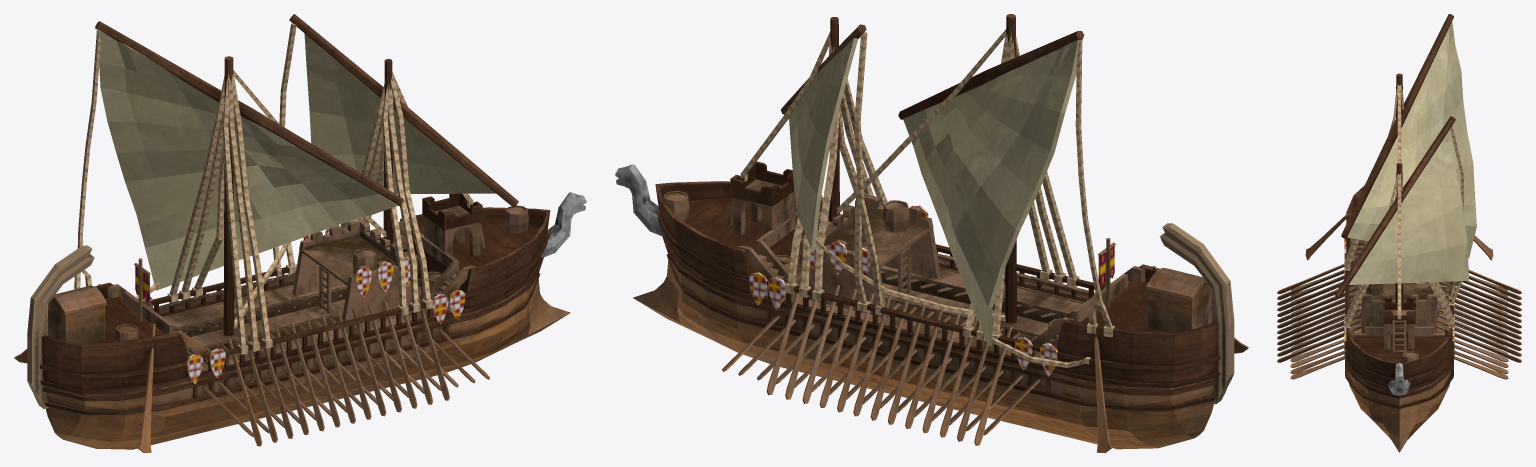
The model's file is tasarim4.glb.
3 renders of one model, left to right at view 1: azimuth 30°, elevation 25°; view 2: azimuth 150°, elevation 25°; view 3: azimuth 270°, elevation 25°, orthographic. The views are drawn at different scales.
Parts seen in each view (by area): view 1: Cube.007, Cube.026, Cube.008, Cube.057, Cube.002, Cube.010, Cube.001, Cube.058, Cube.003, Cube.004, Cube.027, Cylinder.003 (+27 smaller); view 2: Cube.026, Cube.007, Cube.002, Cube.001, Cube.003, Cube.008, Cube.010, Cube.004, Cube.058, Cube.027, Cube.055, Cube.006 (+32 smaller); view 3: Cube.008, Cube.007, Cube.001, Cube.026, Cube.010, Cylinder.003, Cylinder.001, Cube.003, Cube.058, Cube.004, Cube.009, Cube.048 (+26 smaller).
Part boxes in pixels (box(x1,y1,x2,y2)): Cube.007: box(97, 29, 398, 290); Cube.026: box(45, 275, 570, 449); Cube.008: box(304, 33, 495, 194); Cube.057: box(167, 72, 272, 354); Cube.002: box(42, 282, 189, 390); Cube.010: box(292, 218, 411, 330); Cube.001: box(400, 207, 550, 309); Cube.058: box(340, 73, 432, 315); Cube.003: box(40, 233, 550, 394); Cube.004: box(43, 257, 543, 415); Cube.027: box(164, 277, 450, 371); Cylinder.003: box(95, 21, 403, 206); Cube.026: box(633, 260, 1214, 449); Cube.007: box(903, 39, 1082, 346); Cube.002: box(1055, 264, 1218, 383); Cube.001: box(655, 181, 821, 293); Cube.003: box(656, 211, 1220, 387); Cube.008: box(788, 38, 857, 249); Cube.010: box(808, 194, 940, 317); Cube.004: box(662, 236, 1216, 410); Cube.058: box(785, 38, 887, 300); Cube.027: box(765, 261, 1082, 357); Cube.055: box(1160, 223, 1234, 404); Cube.006: box(1146, 267, 1211, 332); Cube.008: box(1349, 132, 1468, 284); Cube.007: box(1347, 21, 1476, 258); Cube.001: box(1346, 328, 1452, 387); Cube.026: box(1348, 266, 1450, 452); Cube.010: box(1361, 283, 1437, 333); Cylinder.003: box(1341, 14, 1453, 238); Cylinder.001: box(1334, 116, 1455, 297); Cube.003: box(1345, 240, 1453, 391); Cube.058: box(1344, 175, 1454, 332); Cube.004: box(1345, 359, 1453, 408); Cube.009: box(1350, 238, 1448, 337); Cube.048: box(1397, 173, 1401, 319).
Size of the model in its own units: 1777 by 1229 by 902.
1 material, 1 textured.
